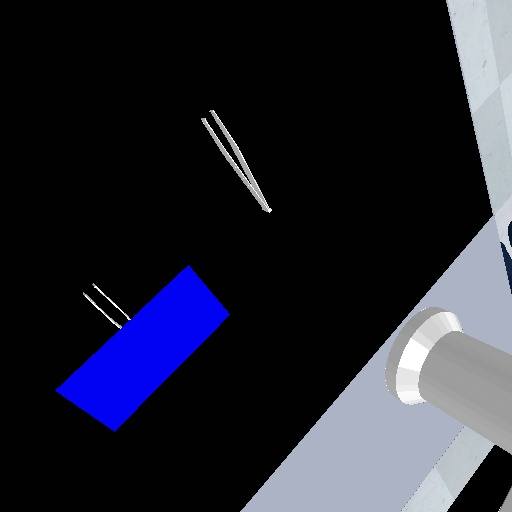pinza: (197, 102, 276, 216), (77, 280, 133, 331)
